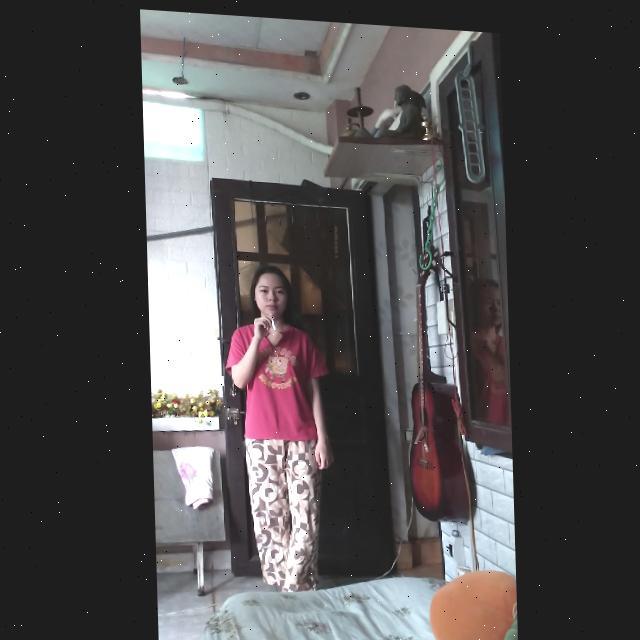cigarette: (267, 310, 275, 328)
